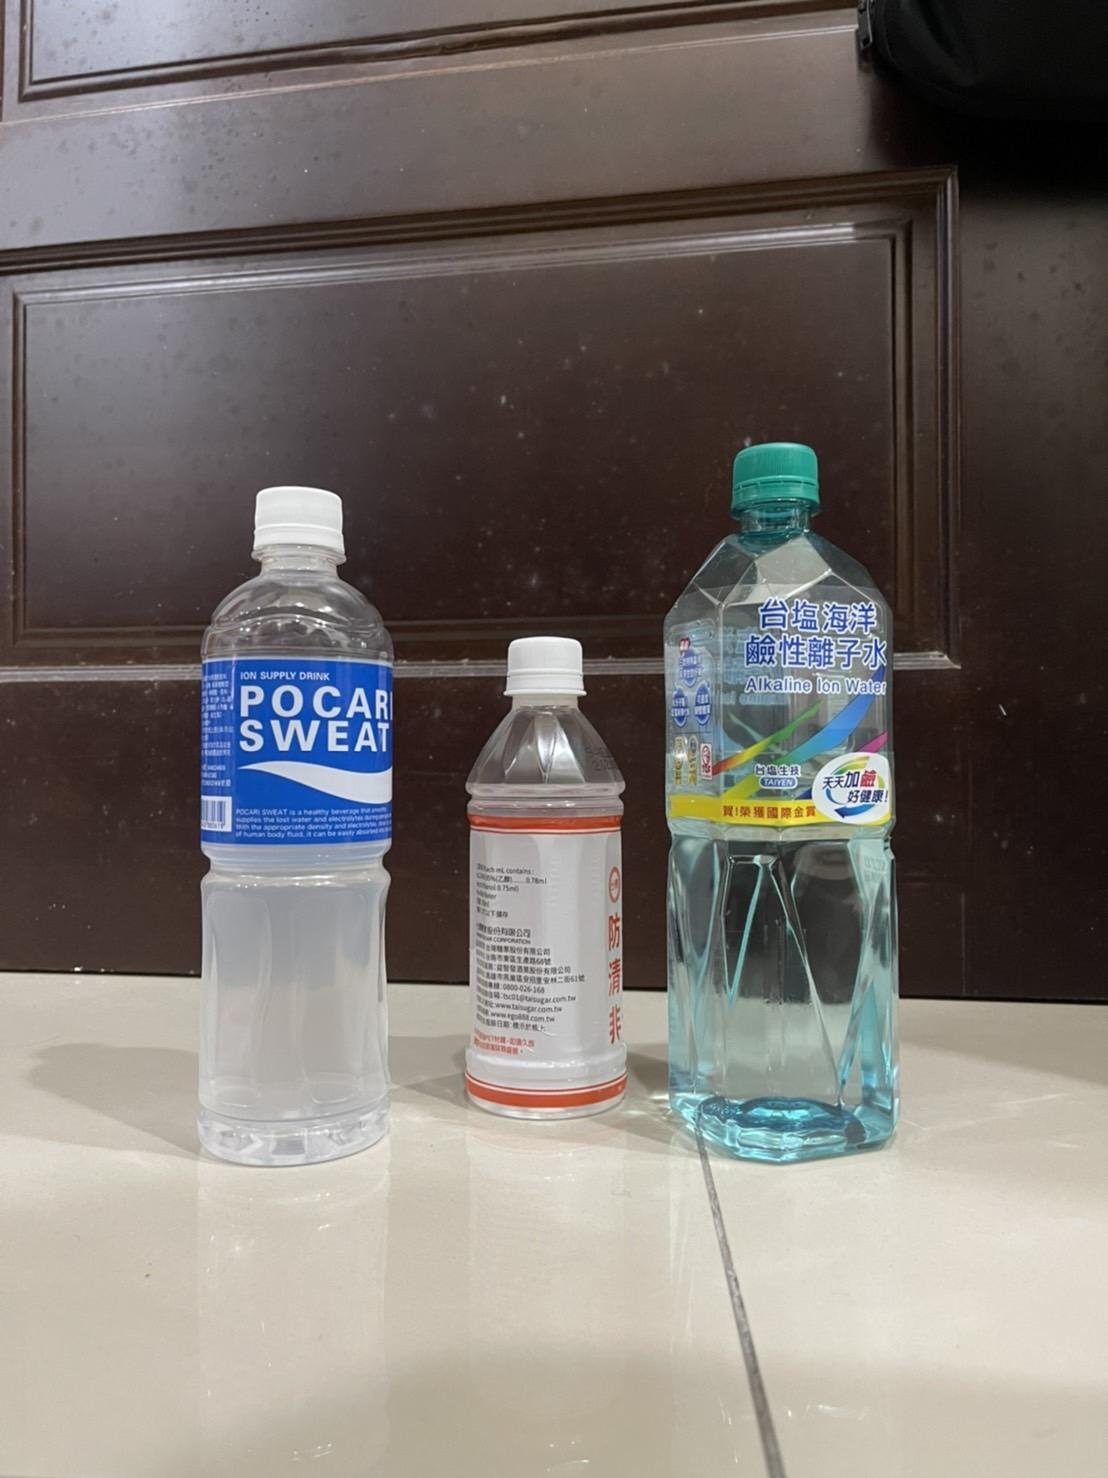plastic_bottle: (661, 425, 907, 1170), (183, 469, 402, 1168), (450, 617, 635, 1123)
